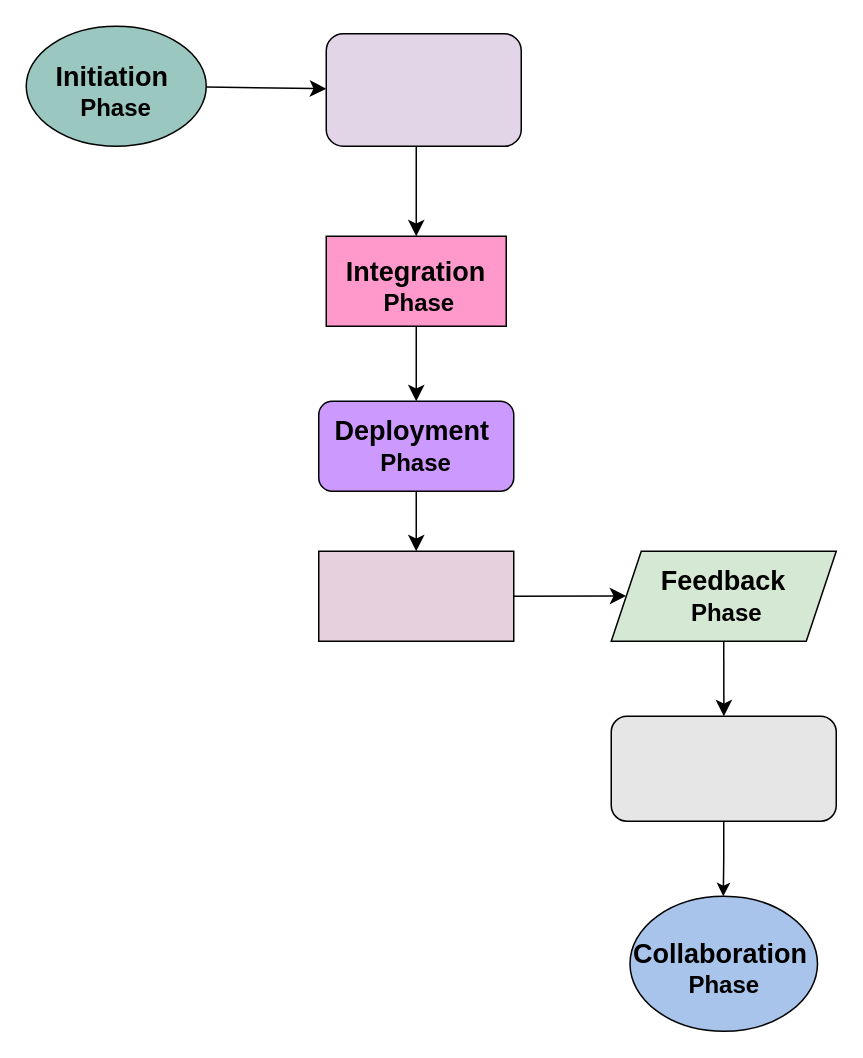
This 863x1058 diagram has some shape labels left out. The centre of each missing label's shape, as x and y in pixels:
Development Phase: the point at 423,89
Monitoring Phase: the point at 415,595
Security Phase: the point at 723,768
